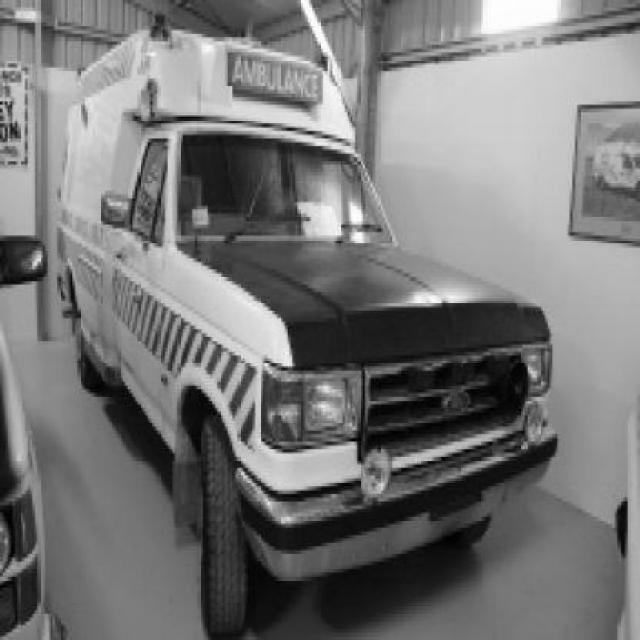Ambulance: (58, 13, 559, 640)
